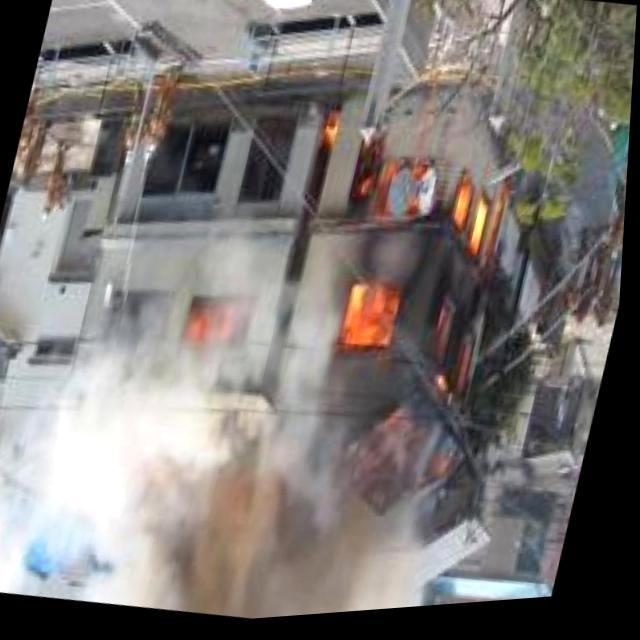fire: (248, 90, 568, 487)
